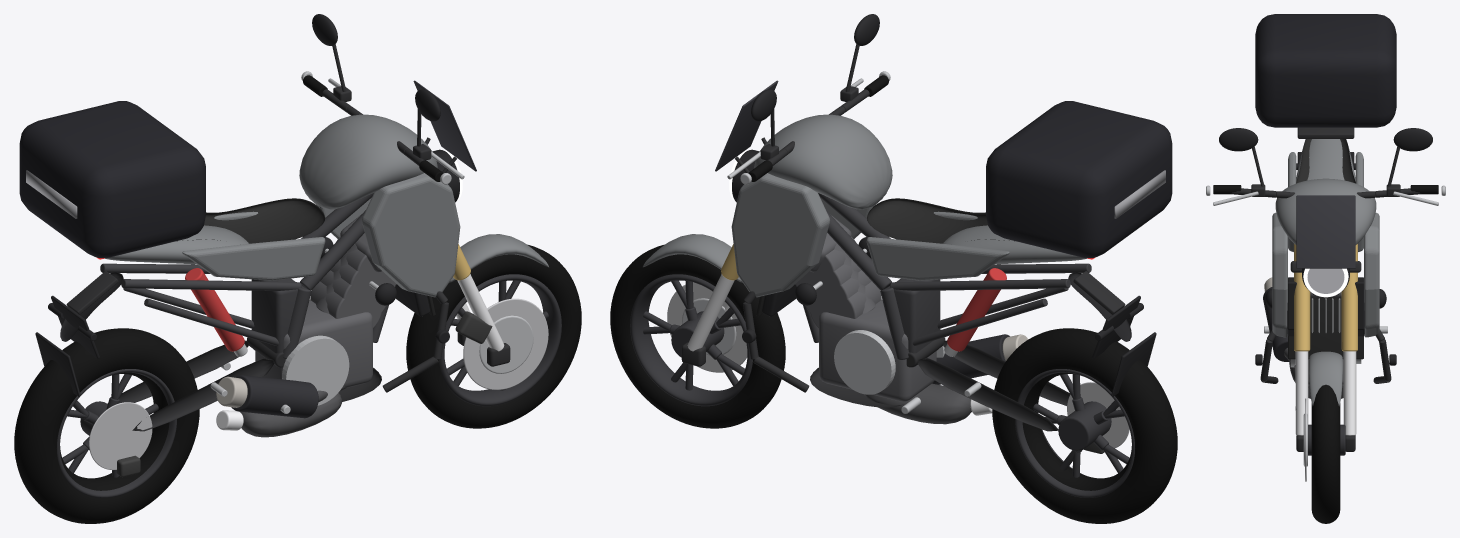
3 views of the same model, side by side, from view 1: azimuth 30°, elevation 25°; view 2: azimuth 150°, elevation 25°; view 3: azimuth 270°, elevation 25° (orthographic). The views are drawn at different scales.
Visible parts, largest first — view 1: acc~givi-b45-sr1169~1, fixed~x~18, fixed~x~0, cmp~tank-shrouds~104, cmp~tank~101, cmp~tail-section~109, cmp~seat~106, cmp~front-wheel~1, fixed~x~87, fixed~x~36, fixed~x~39, cmp~engine-covers~95 (+28 smaller); view 2: acc~givi-b45-sr1169~1, fixed~x~18, fixed~x~0, cmp~tank-shrouds~102, cmp~tank~101, cmp~tail-section~108, cmp~front-wheel~1, fixed~x~87, cmp~seat~106, cmp~engine-covers~94, cmp~swingarm~82, stock~muffler~99 (+28 smaller); view 3: acc~givi-b45-sr1169~1, acc~givi-a1164~0, fixed~x~0, cmp~tank~101, acc~rg-radiator-guard~0, cmp~tank-shrouds~102, cmp~tank-shrouds~104, cmp~tail-section~107, cmp~front-fender~49, cmp~fork~42, cmp~fork~45, cmp~fork~41 (+15 smaller).
Boxes of the visible parts, box(x1,y1,x2,y2) form: acc~givi-b45-sr1169~1: box(19, 101, 205, 258); fixed~x~18: box(14, 328, 199, 523); fixed~x~0: box(406, 244, 581, 428); cmp~tank-shrouds~104: box(362, 173, 460, 297); cmp~tank~101: box(299, 114, 437, 209); cmp~tail-section~109: box(182, 237, 325, 280); cmp~seat~106: box(177, 198, 324, 243); cmp~front-wheel~1: box(439, 274, 561, 406); fixed~x~87: box(255, 300, 372, 387); fixed~x~36: box(463, 298, 548, 389); fixed~x~39: box(89, 402, 152, 470); cmp~engine-covers~95: box(282, 335, 349, 405); acc~givi-b45-sr1169~1: box(986, 101, 1172, 258); fixed~x~18: box(992, 328, 1177, 523); fixed~x~0: box(610, 244, 785, 428); cmp~tank-shrouds~102: box(731, 173, 829, 297); cmp~tank~101: box(754, 114, 892, 209); cmp~tail-section~108: box(866, 237, 1009, 280); cmp~front-wheel~1: box(630, 274, 752, 406); fixed~x~87: box(819, 300, 936, 401); cmp~seat~106: box(867, 198, 1014, 243); cmp~engine-covers~94: box(834, 330, 895, 394); cmp~swingarm~82: box(917, 357, 1059, 431); stock~muffler~99: box(864, 383, 971, 424); acc~givi-b45-sr1169~1: box(1255, 14, 1396, 127); acc~givi-a1164~0: box(1296, 195, 1355, 268); fixed~x~0: box(1311, 384, 1340, 523); cmp~tank~101: box(1275, 178, 1376, 244); acc~rg-radiator-guard~0: box(1288, 297, 1363, 359); cmp~tank-shrouds~102: box(1364, 212, 1379, 337); cmp~tank-shrouds~104: box(1272, 212, 1287, 337); cmp~tail-section~107: box(1296, 139, 1355, 181); cmp~front-fender~49: box(1309, 351, 1342, 406); cmp~fork~42: box(1341, 244, 1357, 351); cmp~fork~45: box(1294, 244, 1310, 351); cmp~fork~41: box(1343, 351, 1356, 435).
Bounding box in the file's own units: 1.95 × 1.33 × 0.85.
